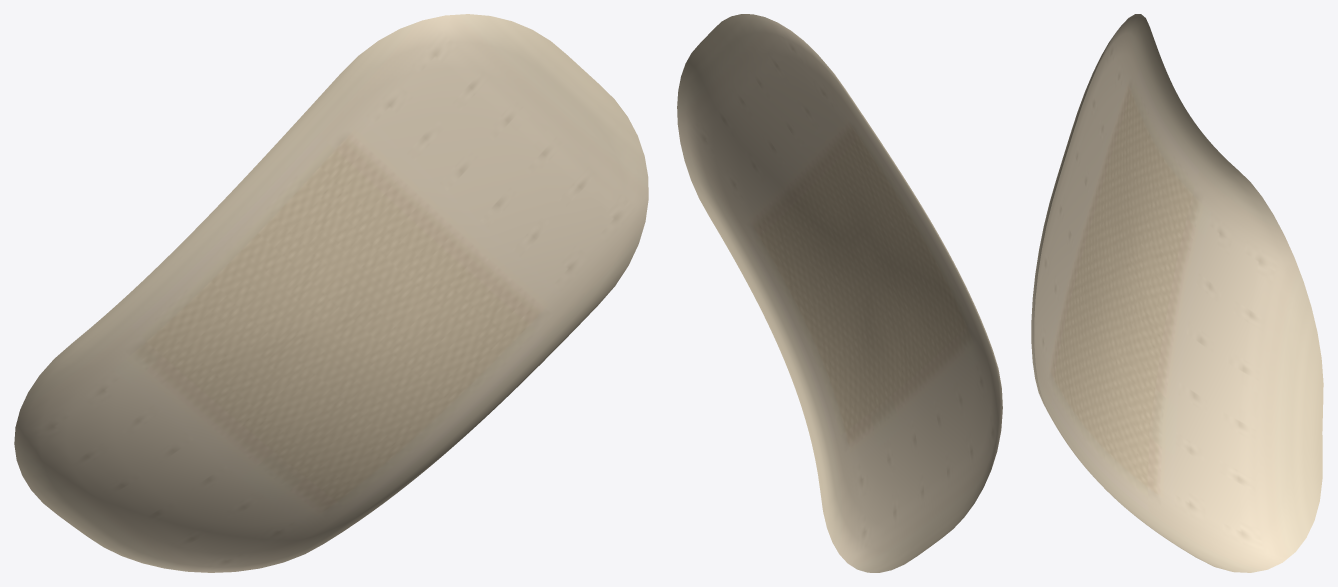
Rendered from kid_plaster.glb.
The picture shows the model from 3 angles, left to right: view 1: azimuth 30°, elevation 25°; view 2: azimuth 150°, elevation 25°; view 3: azimuth 270°, elevation 25°; orthographic projection. The views are drawn at different scales.
Parts seen in each view (by area): view 1: kid_plaster; view 2: kid_plaster; view 3: kid_plaster.
Boxes of the visible parts, bbox=[...] form: kid_plaster: bbox=[14, 14, 648, 572]; kid_plaster: bbox=[677, 14, 1002, 572]; kid_plaster: bbox=[1031, 14, 1323, 572].
Size of the model in its own units: 0.0987 by 0.1052 by 0.0448.
Materials: 1 (1 with a texture image).
